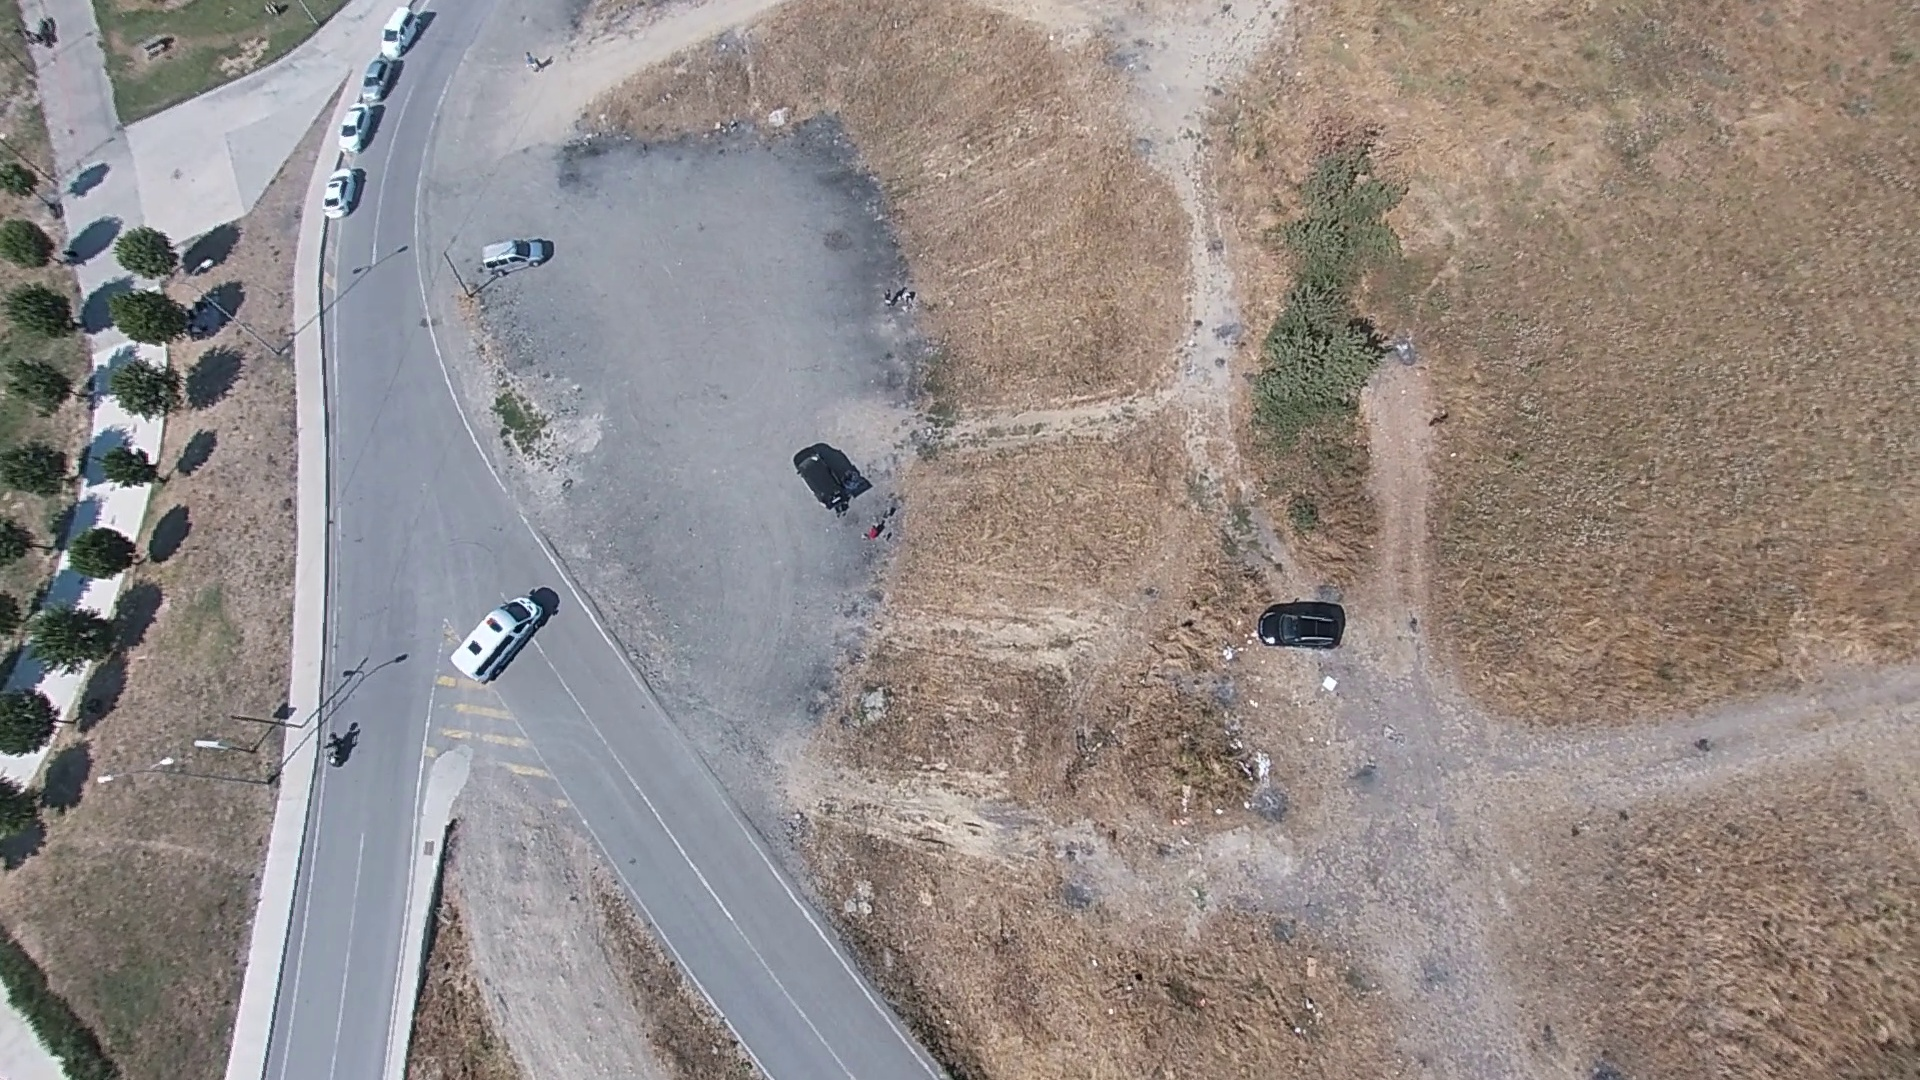araba: (449, 589, 556, 681), (1253, 597, 1347, 650), (794, 444, 842, 518), (380, 3, 437, 59), (314, 166, 360, 224), (479, 237, 549, 275), (338, 99, 377, 157), (363, 59, 402, 103)
insan: (881, 287, 896, 306), (530, 51, 540, 74)
